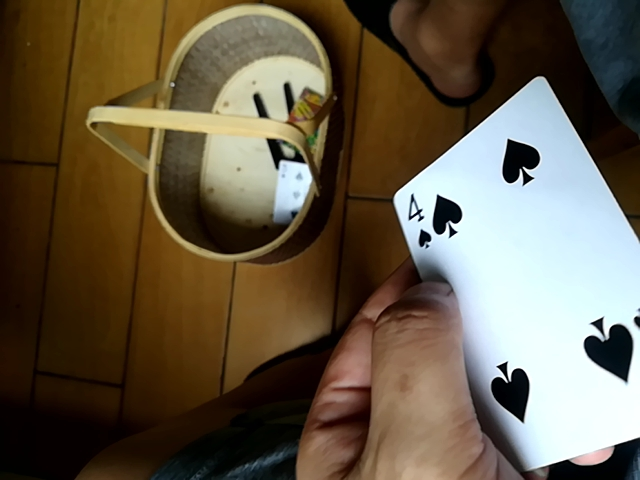ht 4: (378, 71, 640, 474)
